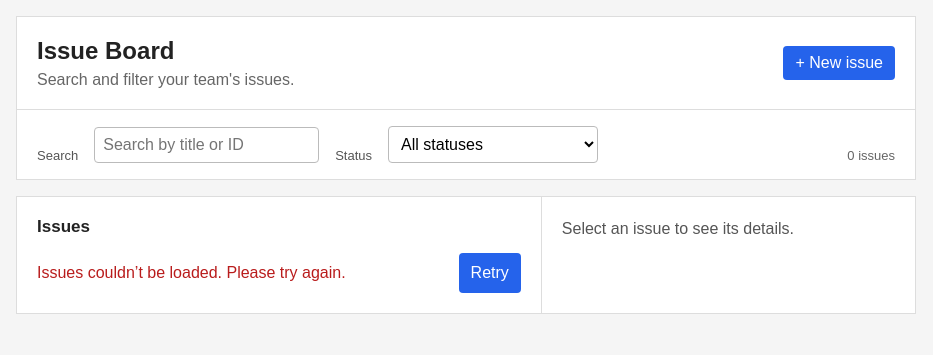
Test case: IssueBoard › shows an error and retries successfully
Expected: the message shows "Issues couldn’t be loaded.", left=37, top=264, right=346, bottom=281
Click the button "Retry" at coordinates (490, 273), box left=459, top=253, right=521, bottom=293
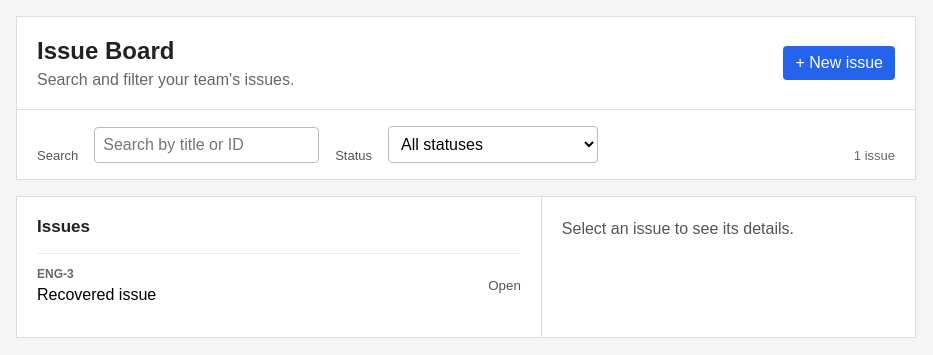
Result: the text "Recovered issue" is shown at left=37, top=286, right=156, bottom=304
